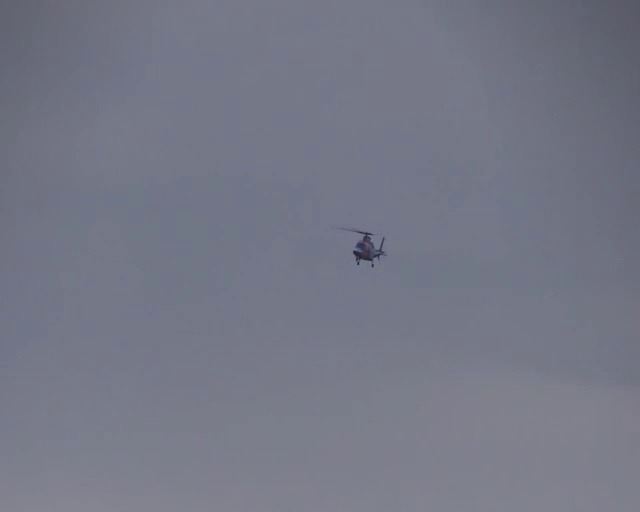HELICOPTER: (333, 226, 387, 268)
